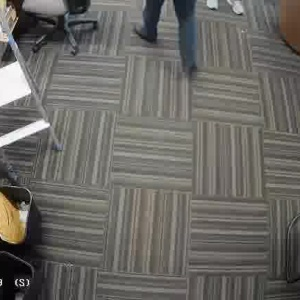person: (132, 0, 202, 78)
